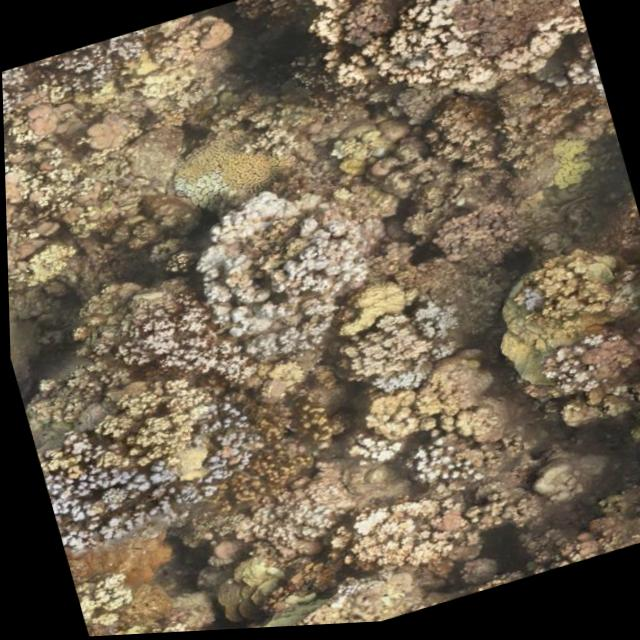Bleached Coral: (44, 448, 209, 549), (169, 236, 274, 355), (264, 223, 365, 302), (193, 186, 301, 250), (397, 431, 481, 497), (403, 289, 463, 354), (339, 427, 405, 477), (361, 364, 434, 406)
